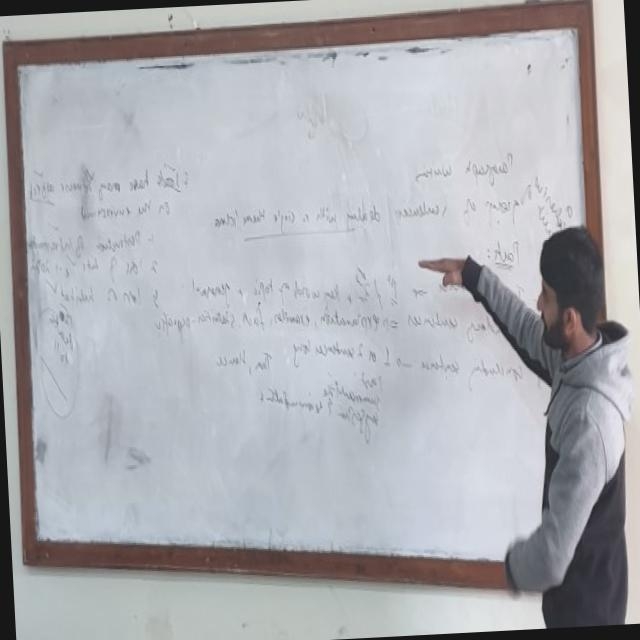Instructor: (514, 197, 640, 629)
White-board: (11, 14, 604, 579)
